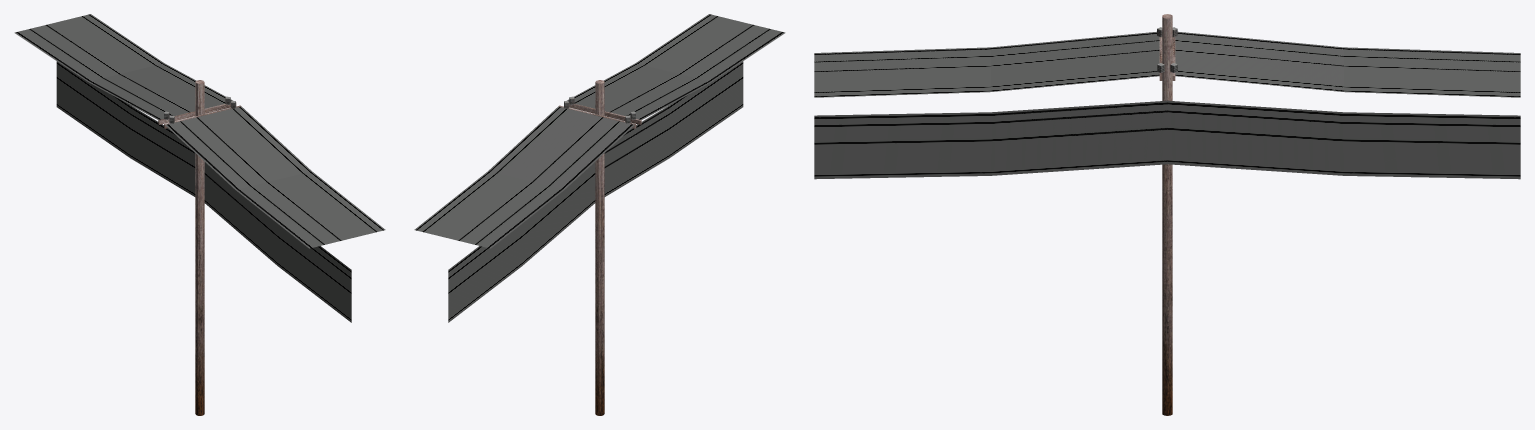
The model's file is tpole20_1c.fbx.
3 renders of one model, left to right at view 1: azimuth 30°, elevation 25°; view 2: azimuth 150°, elevation 25°; view 3: azimuth 270°, elevation 25°, orthographic. The views are drawn at different scales.
Parts seen in each view (by area): view 1: mesh_0; view 2: mesh_0; view 3: mesh_0.
Boxes of the visible parts, x1,y1,x2,y2 form: mesh_0: (14,14,385,415); mesh_0: (414,14,785,415); mesh_0: (814,14,1520,415).
Bounding box in the file's own units: 300 × 1242 × 2000.
1 material, 1 textured.
